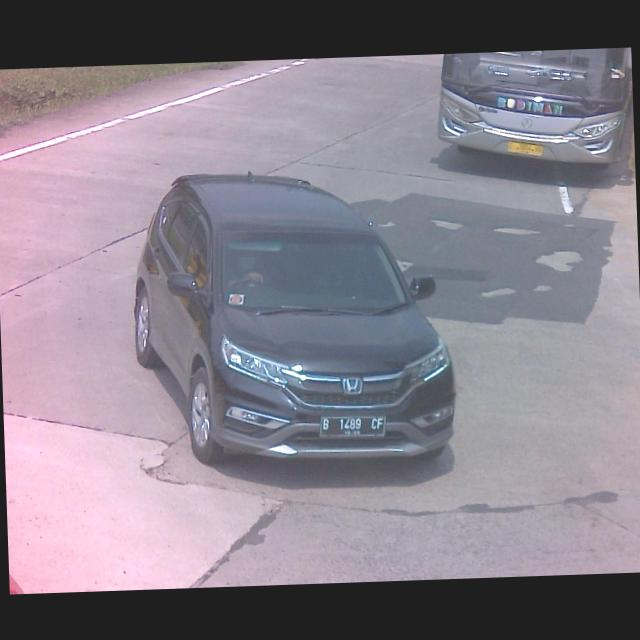plate: (318, 411, 391, 441)
